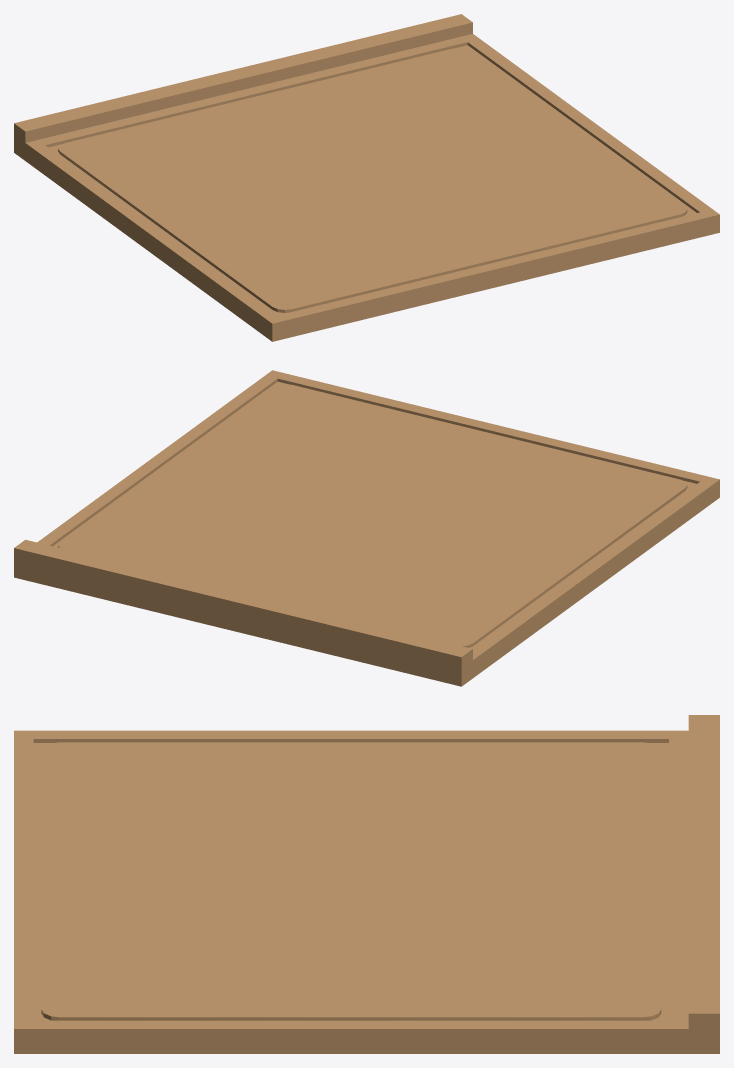
The model's file is chopping_board_2.obj.
The picture shows the model from 3 angles, top to bottom: view 1: azimuth 30°, elevation 25°; view 2: azimuth 150°, elevation 25°; view 3: azimuth 270°, elevation 25°; orthographic projection. The views are drawn at different scales.
Visible parts, largest first — view 1: chopping_board_2.001; view 2: chopping_board_2.001; view 3: chopping_board_2.001.
Part boxes in pixels (x1,y1,x2,y2): chopping_board_2.001: (14,14,719,341); chopping_board_2.001: (14,370,719,686); chopping_board_2.001: (14,715,719,1053).
Bounding box in the file's own units: 0.2034 × 0.0128 × 0.2034.
